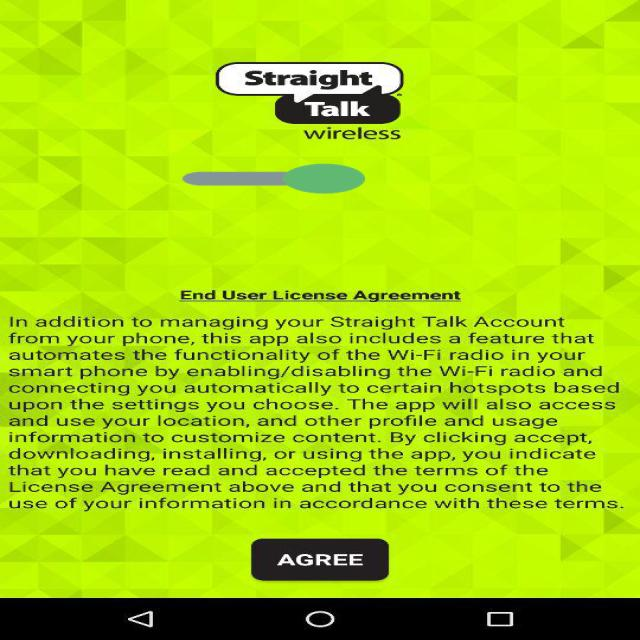social proof: (183, 145, 365, 212)
